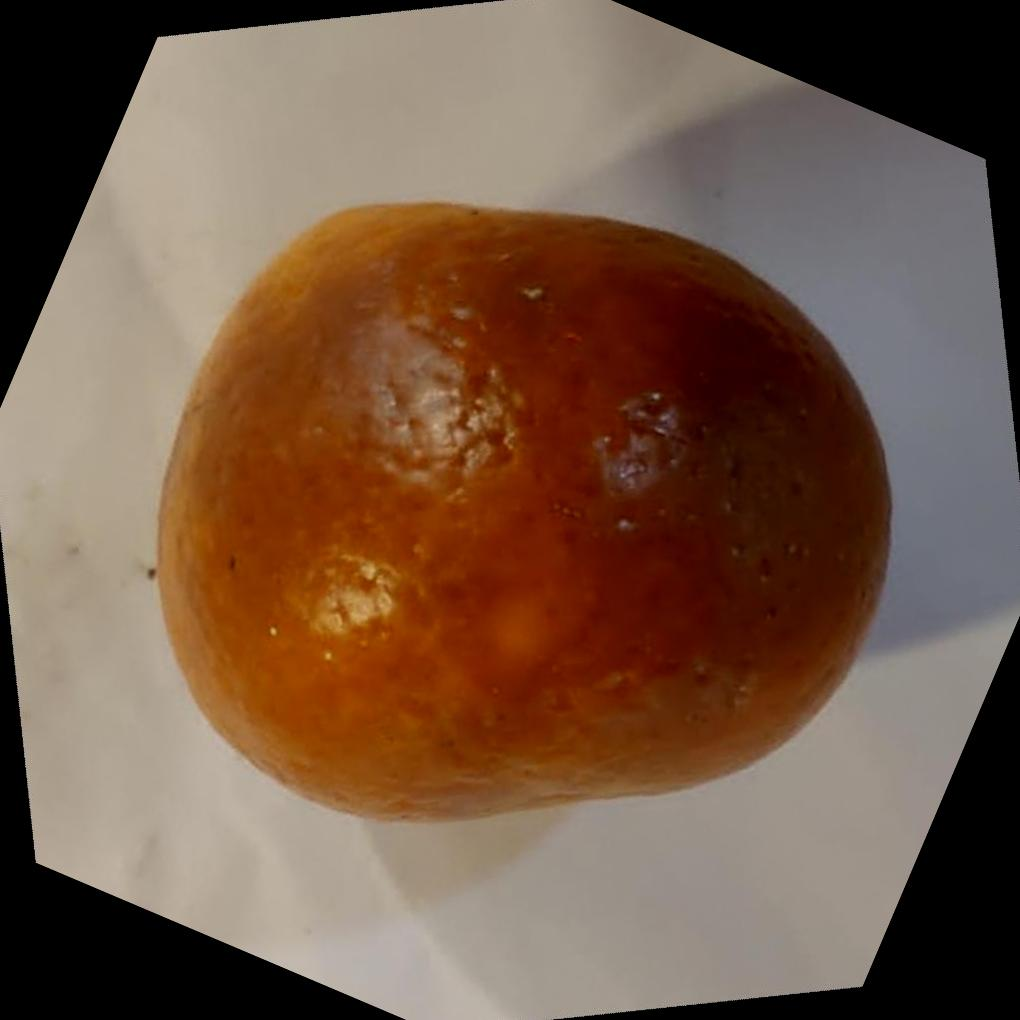FreshOrange: (154, 200, 897, 827)
